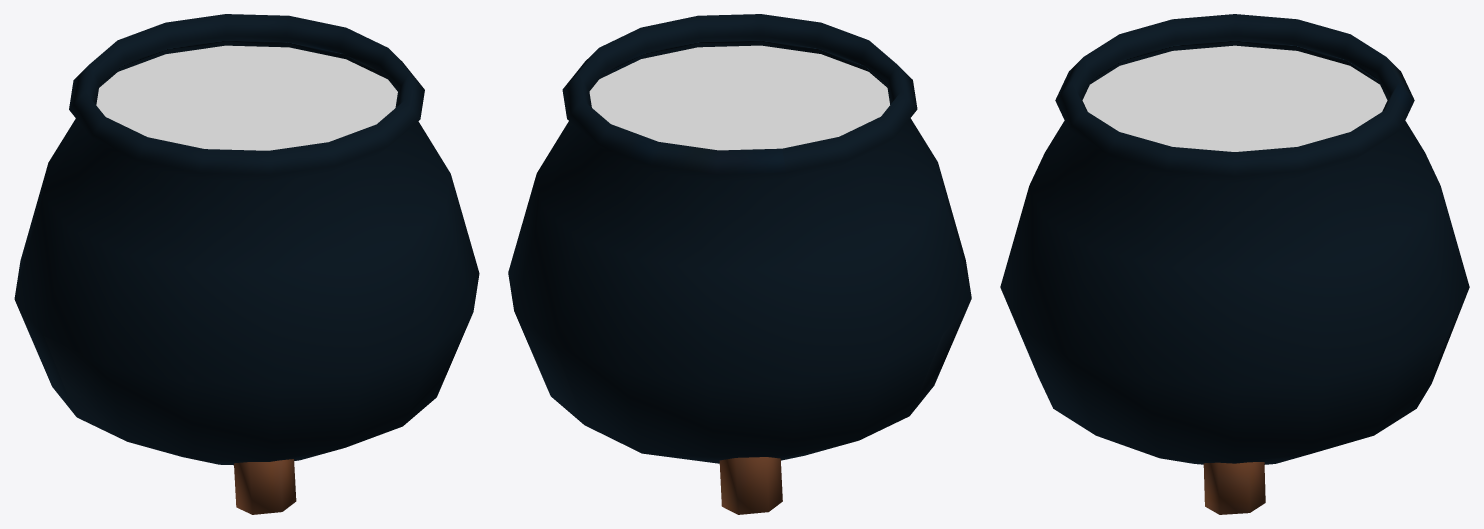
Rendered from Cauldron.fbx.
3 renders of one model, left to right at view 1: azimuth 30°, elevation 25°; view 2: azimuth 150°, elevation 25°; view 3: azimuth 270°, elevation 25°, orthographic.
Parts seen in each view (by area): view 1: Sphere; view 2: Sphere; view 3: Sphere.
Boxes of the visible parts, box(x1,y1,x2,y2) form: Sphere: box(14, 14, 479, 514); Sphere: box(508, 14, 971, 514); Sphere: box(1000, 14, 1469, 514).
Size of the model in its own units: 197 by 166 by 197.
